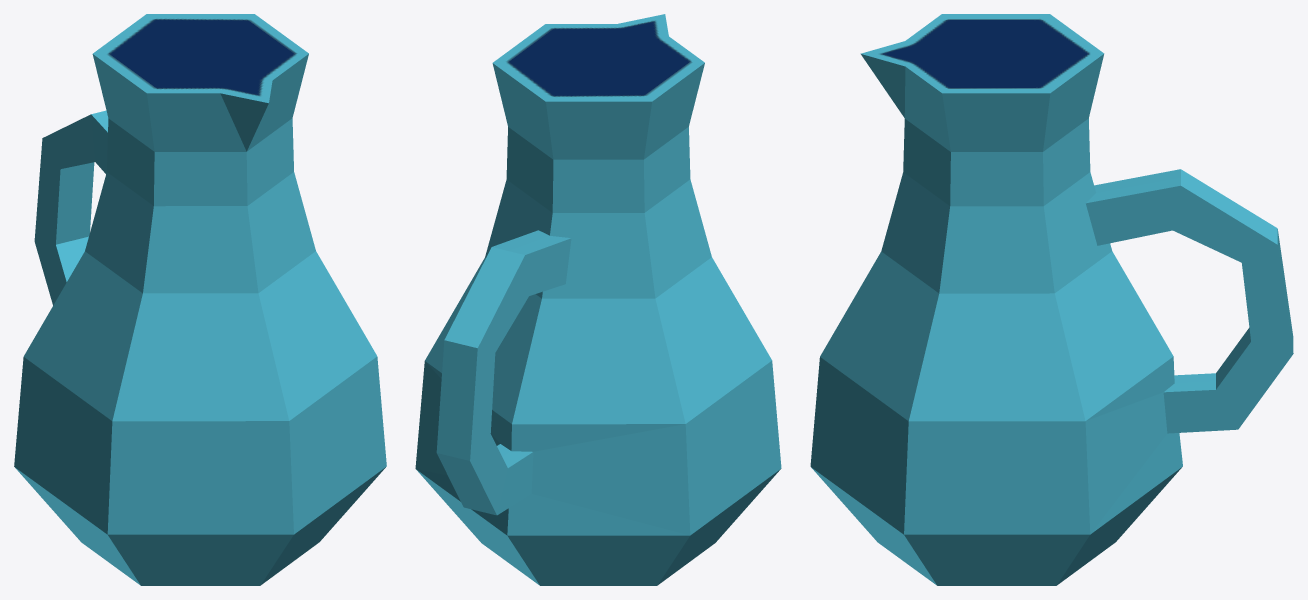
Rendered from pitcher1_PLY.fbx.
3 views of the same model, side by side, from view 1: azimuth 30°, elevation 25°; view 2: azimuth 150°, elevation 25°; view 3: azimuth 270°, elevation 25° (orthographic).
Visible parts, largest first — view 1: pitcher1_PLY; view 2: pitcher1_PLY; view 3: pitcher1_PLY.
Boxes of the visible parts, <box> form: pitcher1_PLY: <box>14,14,386,585</box>; pitcher1_PLY: <box>415,14,781,585</box>; pitcher1_PLY: <box>810,14,1293,585</box>.
Bounding box in the file's own units: 0.5988 × 0.9993 × 0.8952.
